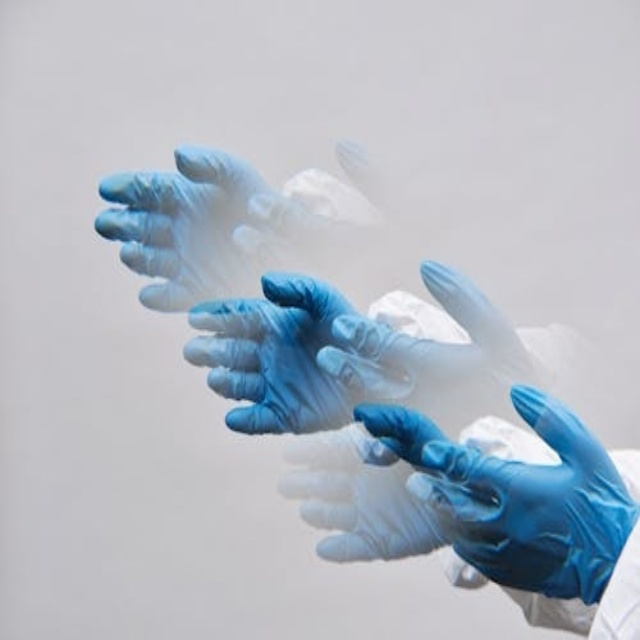Guantes: (420, 372, 634, 609), (330, 243, 534, 416), (175, 261, 362, 445), (88, 132, 273, 316), (238, 123, 445, 282), (271, 399, 440, 588)
